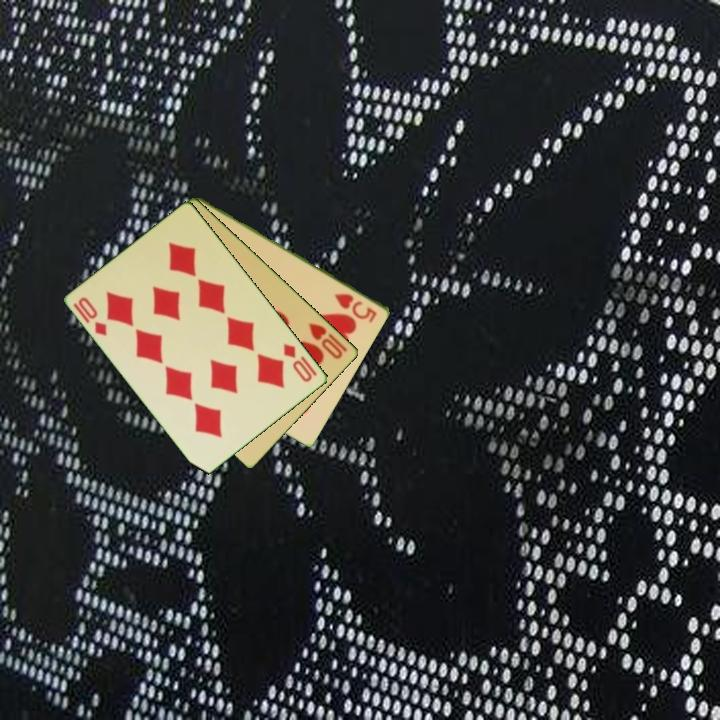10d: (280, 340, 320, 385), (75, 294, 110, 339)
10h: (305, 319, 351, 362)
5h: (331, 290, 380, 325)
